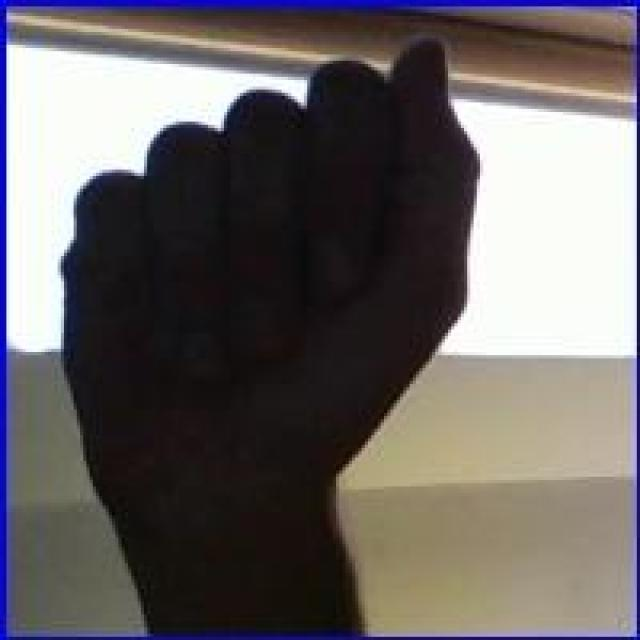A: (51, 35, 483, 525)
